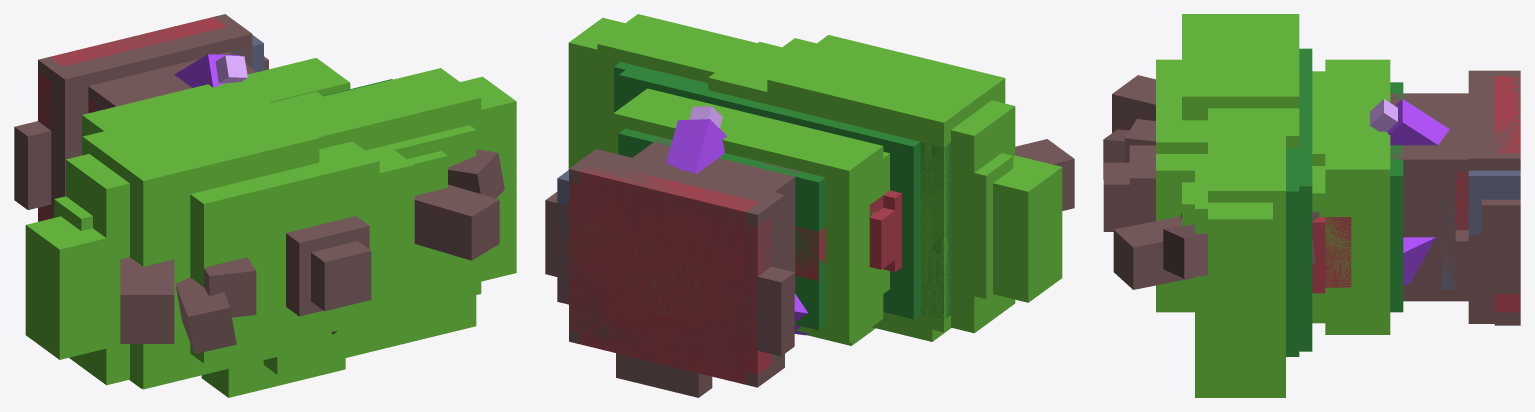
Rendered from Deco_Zona1.fbx.
3 views of the same model, side by side, from view 1: azimuth 30°, elevation 25°; view 2: azimuth 150°, elevation 25°; view 3: azimuth 270°, elevation 25° (orthographic). The views are drawn at different scales.
Parts seen in each view (by area): view 1: Arbol_Grande_1_Copa, Arbol_Seco_1_Tronco, Arbol_Grande_3_Copa, Arbol_Grande_2_Copa, Arbol_Seco_2_Tronco, Arbol_Seco_3_Tronco, Arbol_Mediano_2_Copa, Arbol_Mediano_1_Copa, Arbol_Grande_3_Tronco, Racimo_Cuarzo_Cuarzo, Arbol_Grande_1_Tronco, Racimo_Cuarzo_CuarzoPunta (+1 smaller); view 2: Arbol_Grande_1_Copa, Arbol_Grande_1_Tronco, Arbol_Seco_1_Tronco, Arbol_Grande_3_Tronco, Arbol_Grande_3_Copa, Arbol_Mediano_1_Copa, Arbol_Grande_2_Copa, Arbol_Grande_2_Sombra, Arbol_Seco_3_Tronco, Arbol_Mediano_2_Copa, Arbol_Seco_2_Tronco, Arbol_Grande_1_Sombra (+9 smaller); view 3: Arbol_Seco_1_Tronco, Arbol_Grande_2_Copa, Arbol_Grande_1_Copa, Arbol_Mediano_2_Copa, Arbol_Grande_3_Copa, Arbol_Mediano_1_Copa, Arbol_Seco_3_Tronco, Arbol_Seco_2_Tronco, Arbol_Grande_2_Sombra, Arbol_Grande_3_Tronco, Racimo_Cuarzo_Cuarzo, Racimo_Cuarzo_Piedra (+6 smaller).
Part boxes in pixels (box(x1,y1,x2,y2)): Arbol_Grande_1_Copa: box(25, 93, 476, 389); Arbol_Seco_1_Tronco: box(14, 14, 499, 343); Arbol_Grande_3_Copa: box(66, 68, 481, 397); Arbol_Grande_2_Copa: box(54, 76, 516, 388); Arbol_Seco_2_Tronco: box(38, 98, 504, 353); Arbol_Seco_3_Tronco: box(38, 14, 256, 317); Arbol_Mediano_2_Copa: box(165, 58, 350, 110); Arbol_Mediano_1_Copa: box(82, 82, 255, 155); Arbol_Grande_3_Tronco: box(50, 17, 226, 66); Racimo_Cuarzo_Cuarzo: box(174, 54, 239, 87); Arbol_Grande_1_Tronco: box(38, 73, 51, 220); Racimo_Cuarzo_CuarzoPunta: box(215, 55, 247, 83); Arbol_Grande_1_Copa: box(609, 35, 1062, 332); Arbol_Grande_1_Tronco: box(569, 181, 883, 374); Arbol_Seco_1_Tronco: box(545, 137, 1074, 394); Arbol_Grande_3_Tronco: box(580, 166, 901, 384); Arbol_Grande_3_Copa: box(597, 14, 1015, 345); Arbol_Mediano_1_Copa: box(720, 109, 883, 343); Arbol_Grande_2_Copa: box(568, 17, 1013, 341); Arbol_Grande_2_Sombra: box(619, 65, 920, 232); Arbol_Seco_3_Tronco: box(557, 148, 788, 397); Arbol_Mediano_2_Copa: box(613, 88, 889, 293); Arbol_Seco_2_Tronco: box(569, 184, 760, 371); Arbol_Grande_1_Sombra: box(630, 90, 920, 319); Arbol_Seco_1_Tronco: box(1103, 70, 1520, 325); Arbol_Grande_2_Copa: box(1156, 108, 1299, 384); Arbol_Grande_1_Copa: box(1182, 14, 1299, 397); Arbol_Mediano_2_Copa: box(1312, 71, 1390, 334); Arbol_Grande_3_Copa: box(1156, 59, 1285, 379); Arbol_Mediano_1_Copa: box(1312, 59, 1390, 323); Arbol_Seco_3_Tronco: box(1124, 70, 1520, 323); Arbol_Seco_2_Tronco: box(1103, 129, 1494, 288); Arbol_Grande_2_Sombra: box(1286, 48, 1312, 351); Arbol_Grande_3_Tronco: box(1312, 76, 1520, 293); Racimo_Cuarzo_Cuarzo: box(1387, 99, 1449, 285); Racimo_Cuarzo_Piedra: box(1442, 170, 1520, 289).
Size of the model in its own units: 5.46 by 2.98 by 4.48.
